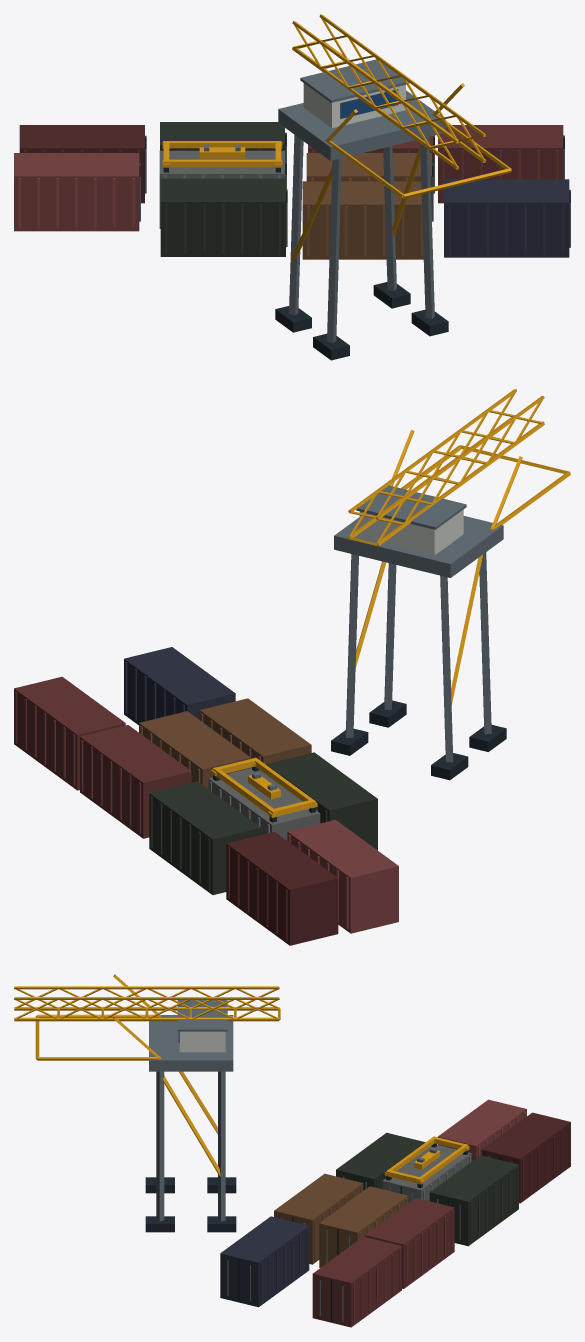
File: gantry-crane-nw-se-09.glb
3 renders of one model, top to bottom at view 1: azimuth 30°, elevation 25°; view 2: azimuth 150°, elevation 25°; view 3: azimuth 270°, elevation 25°, orthographic. The views are drawn at different scales.
Parts seen in each view (by area): view 1: gantry-crane-nw-se-09; view 2: gantry-crane-nw-se-09; view 3: gantry-crane-nw-se-09.
Boxes of the visible parts, x1,y1,x2,y2 form: gantry-crane-nw-se-09: (14, 14, 570, 360); gantry-crane-nw-se-09: (14, 389, 570, 945); gantry-crane-nw-se-09: (14, 974, 570, 1327).
Size of the model in its own units: 56.53 by 31.18 by 72.53.
